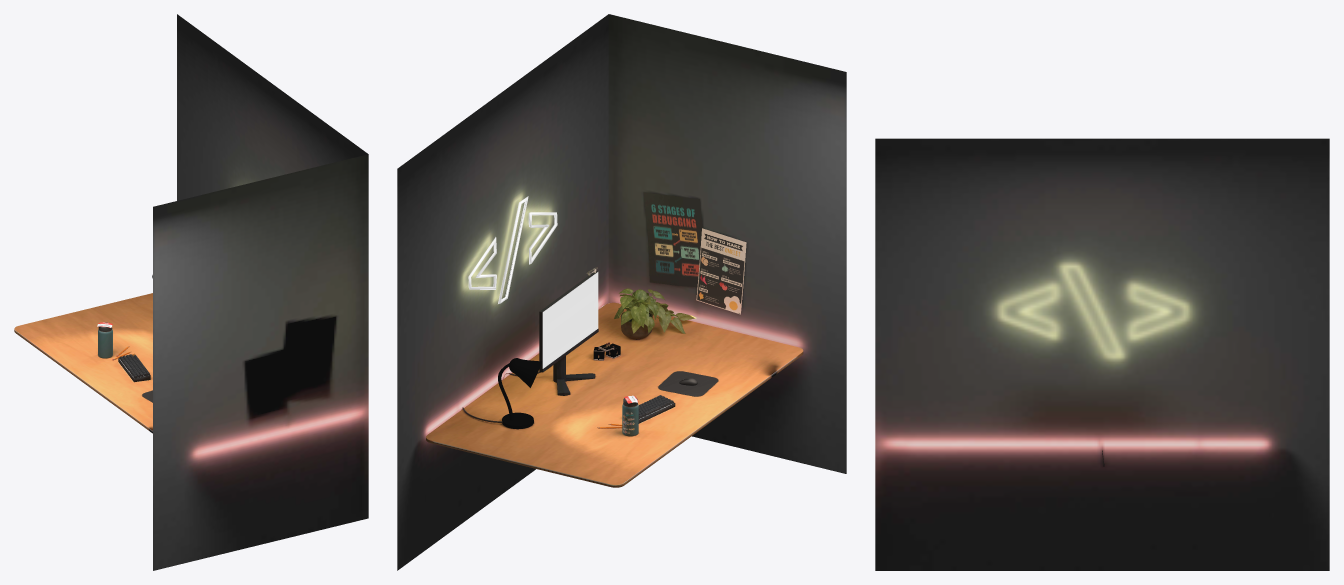
The picture shows the model from 3 angles, left to right: view 1: azimuth 30°, elevation 25°; view 2: azimuth 150°, elevation 25°; view 3: azimuth 270°, elevation 25°; orthographic projection. The views are drawn at different scales.
Visible parts, largest first — view 1: walls_Baked, table_Baked, MechKeyboard_01_Baked, water bottle_Baked; view 2: walls_Baked, table_Baked, poster_Baked, poster 2_Baked, firstmonitorscreen_Baked, plant_Baked, code led_Baked, monitor_Baked, lamp_Baked, mousepad_Baked, MechKeyboard_01_Baked, water bottle_Baked; view 3: walls_Baked.
Part boxes in pixels (<box>): walls_Baked: <box>153,14,368,570</box>; table_Baked: <box>14,293,152,433</box>; MechKeyboard_01_Baked: <box>118,353,150,382</box>; water bottle_Baked: <box>98,322,112,358</box>; walls_Baked: <box>397,14,846,570</box>; table_Baked: <box>426,302,803,487</box>; poster_Baked: <box>643,192,702,287</box>; poster 2_Baked: <box>696,228,746,314</box>; firstmonitorscreen_Baked: <box>542,272,598,368</box>; plant_Baked: <box>614,288,696,338</box>; code led_Baked: <box>468,196,557,303</box>; monitor_Baked: <box>539,271,598,395</box>; lamp_Baked: <box>498,358,542,429</box>; mousepad_Baked: <box>658,371,718,396</box>; MechKeyboard_01_Baked: <box>638,395,675,423</box>; water bottle_Baked: <box>622,398,638,436</box>; walls_Baked: <box>875,138,1329,570</box>.
Size of the model in its own units: 4.63 by 7.46 by 7.11.
22 materials, 22 textured.
